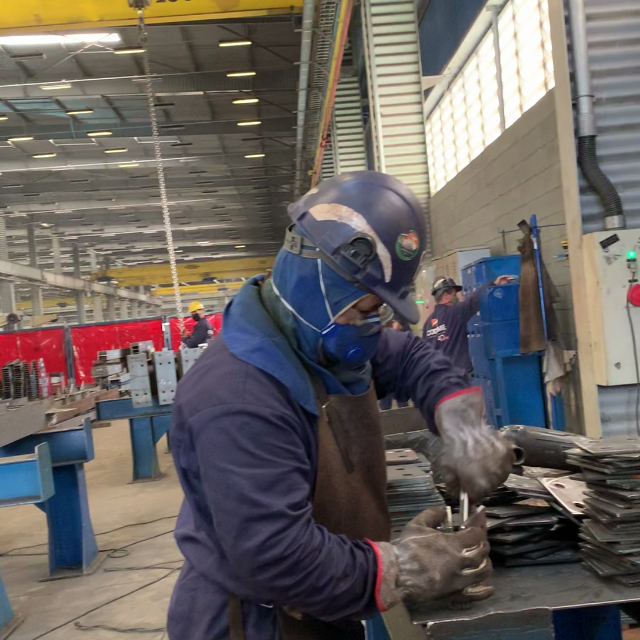face-shield: (314, 255, 400, 332)
glove: (368, 504, 496, 607), (431, 384, 513, 504)
helmet: (288, 170, 445, 327)
mask: (323, 323, 380, 368)
person: (171, 168, 513, 640)
